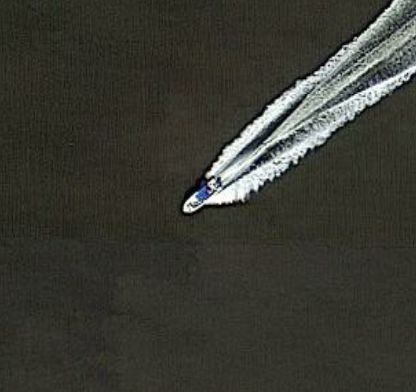boat: (178, 164, 237, 219)
